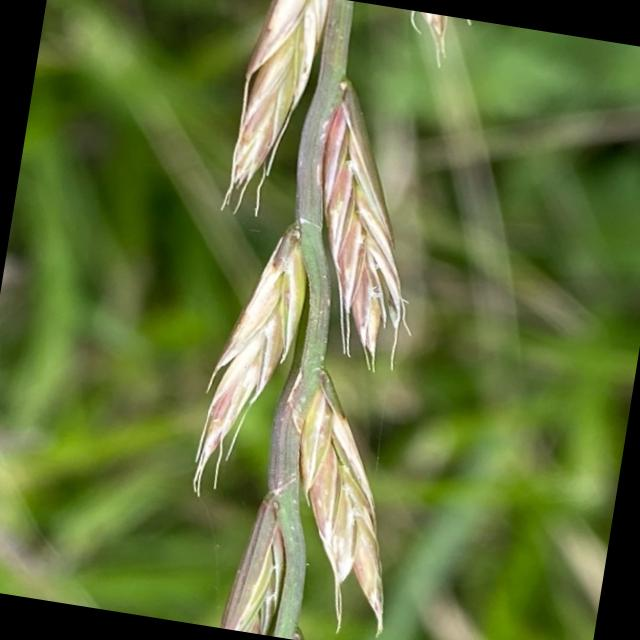Lolium: (150, 0, 483, 640)
